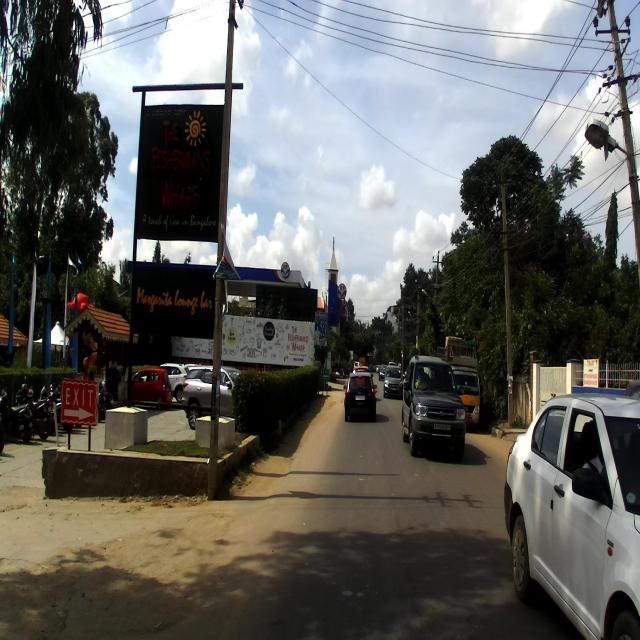Car_Ford: (344, 367, 378, 424)
Car_Maruti-Suzuki: (503, 388, 639, 638)
Car_TATA: (400, 354, 466, 459)
